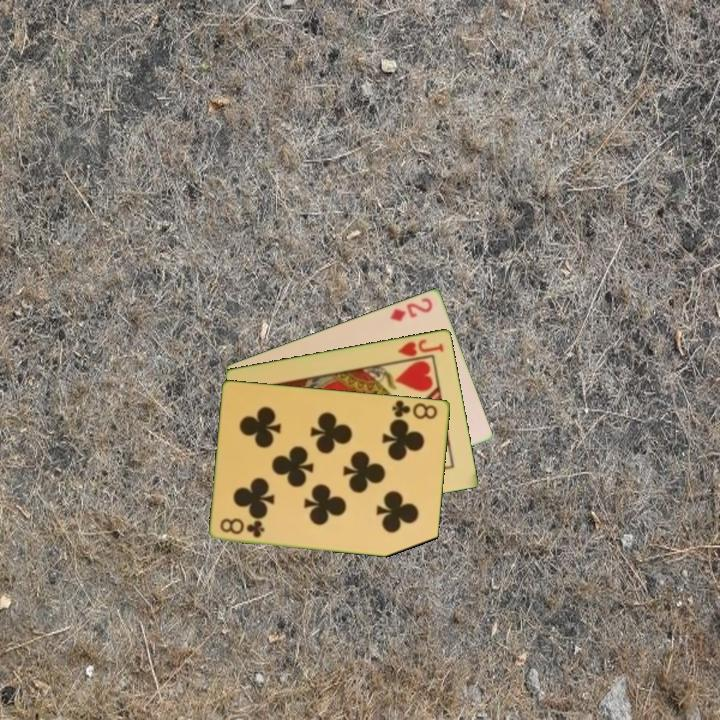2d: (387, 294, 436, 324)
8c: (388, 396, 441, 422), (217, 515, 268, 540)
Jh: (392, 335, 447, 364)
